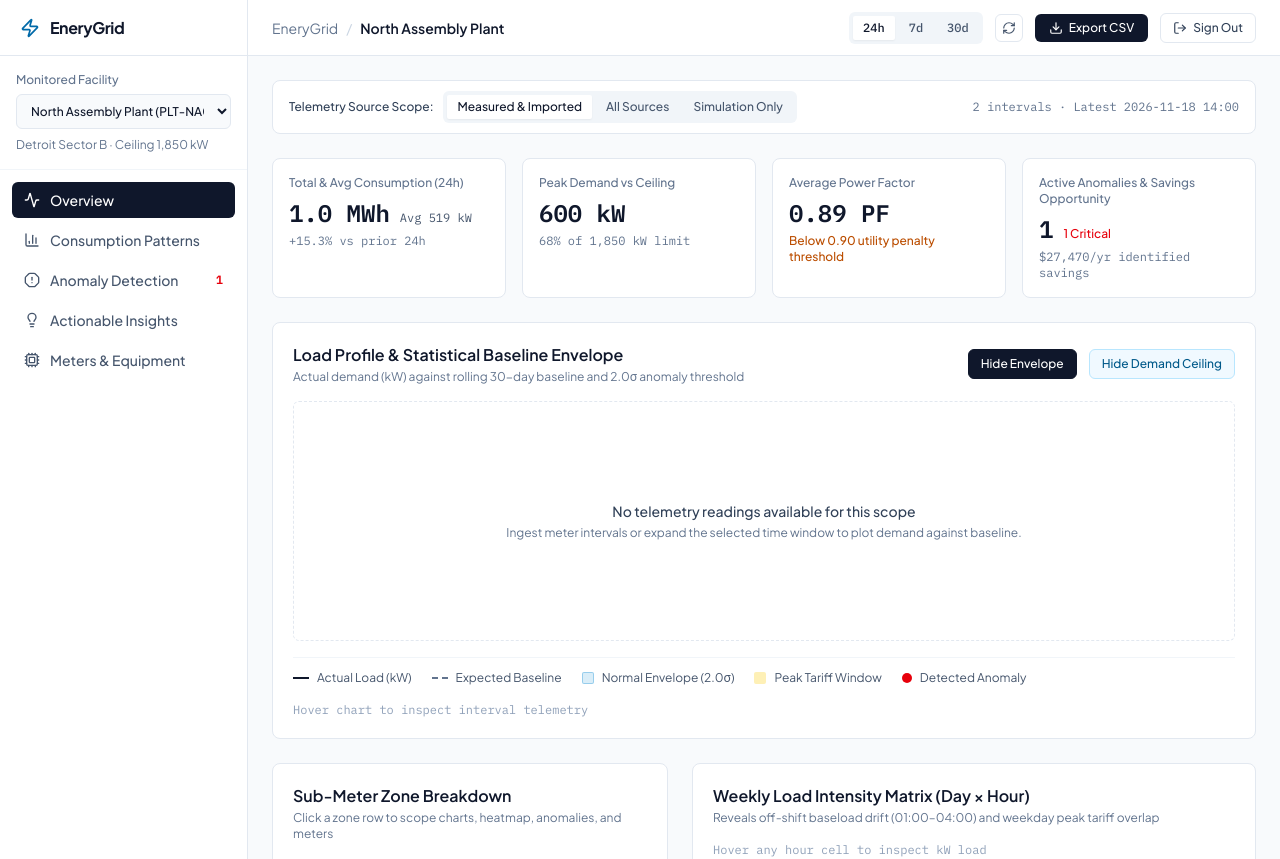
Test: EneryGrid backend-integrated dashboard › separates measured/imported telemetry from simulation readings and hydrates server analytics summary KPIs
Expected: the text "Avg 519 kW" is shown, [400,210,472,226]
Expected: the text "+15.3% vs prior 24h" is shown, [289,233,426,248]
Note: Switching Telemetry Source Scope to Simulation Only computes KPIs from simulated reading #103 only
Click the button "Simulation Only" at [738, 107], box [683,95,793,119]
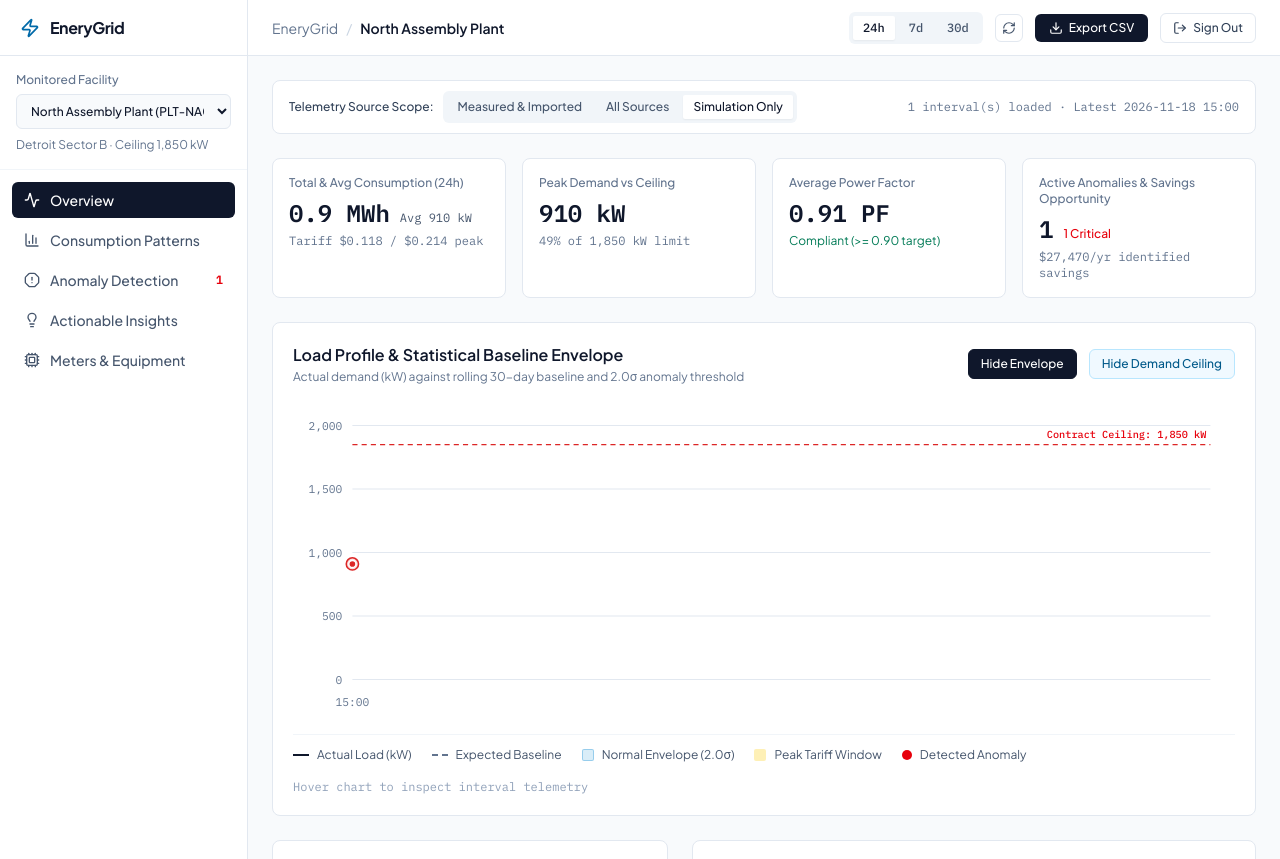
Result: the text "Avg 910 kW" is shown at [400,210,472,226]
Result: the text "1 interval(s) loaded · Latest 2026-11-18 15:00" is shown at [908,99,1239,114]
